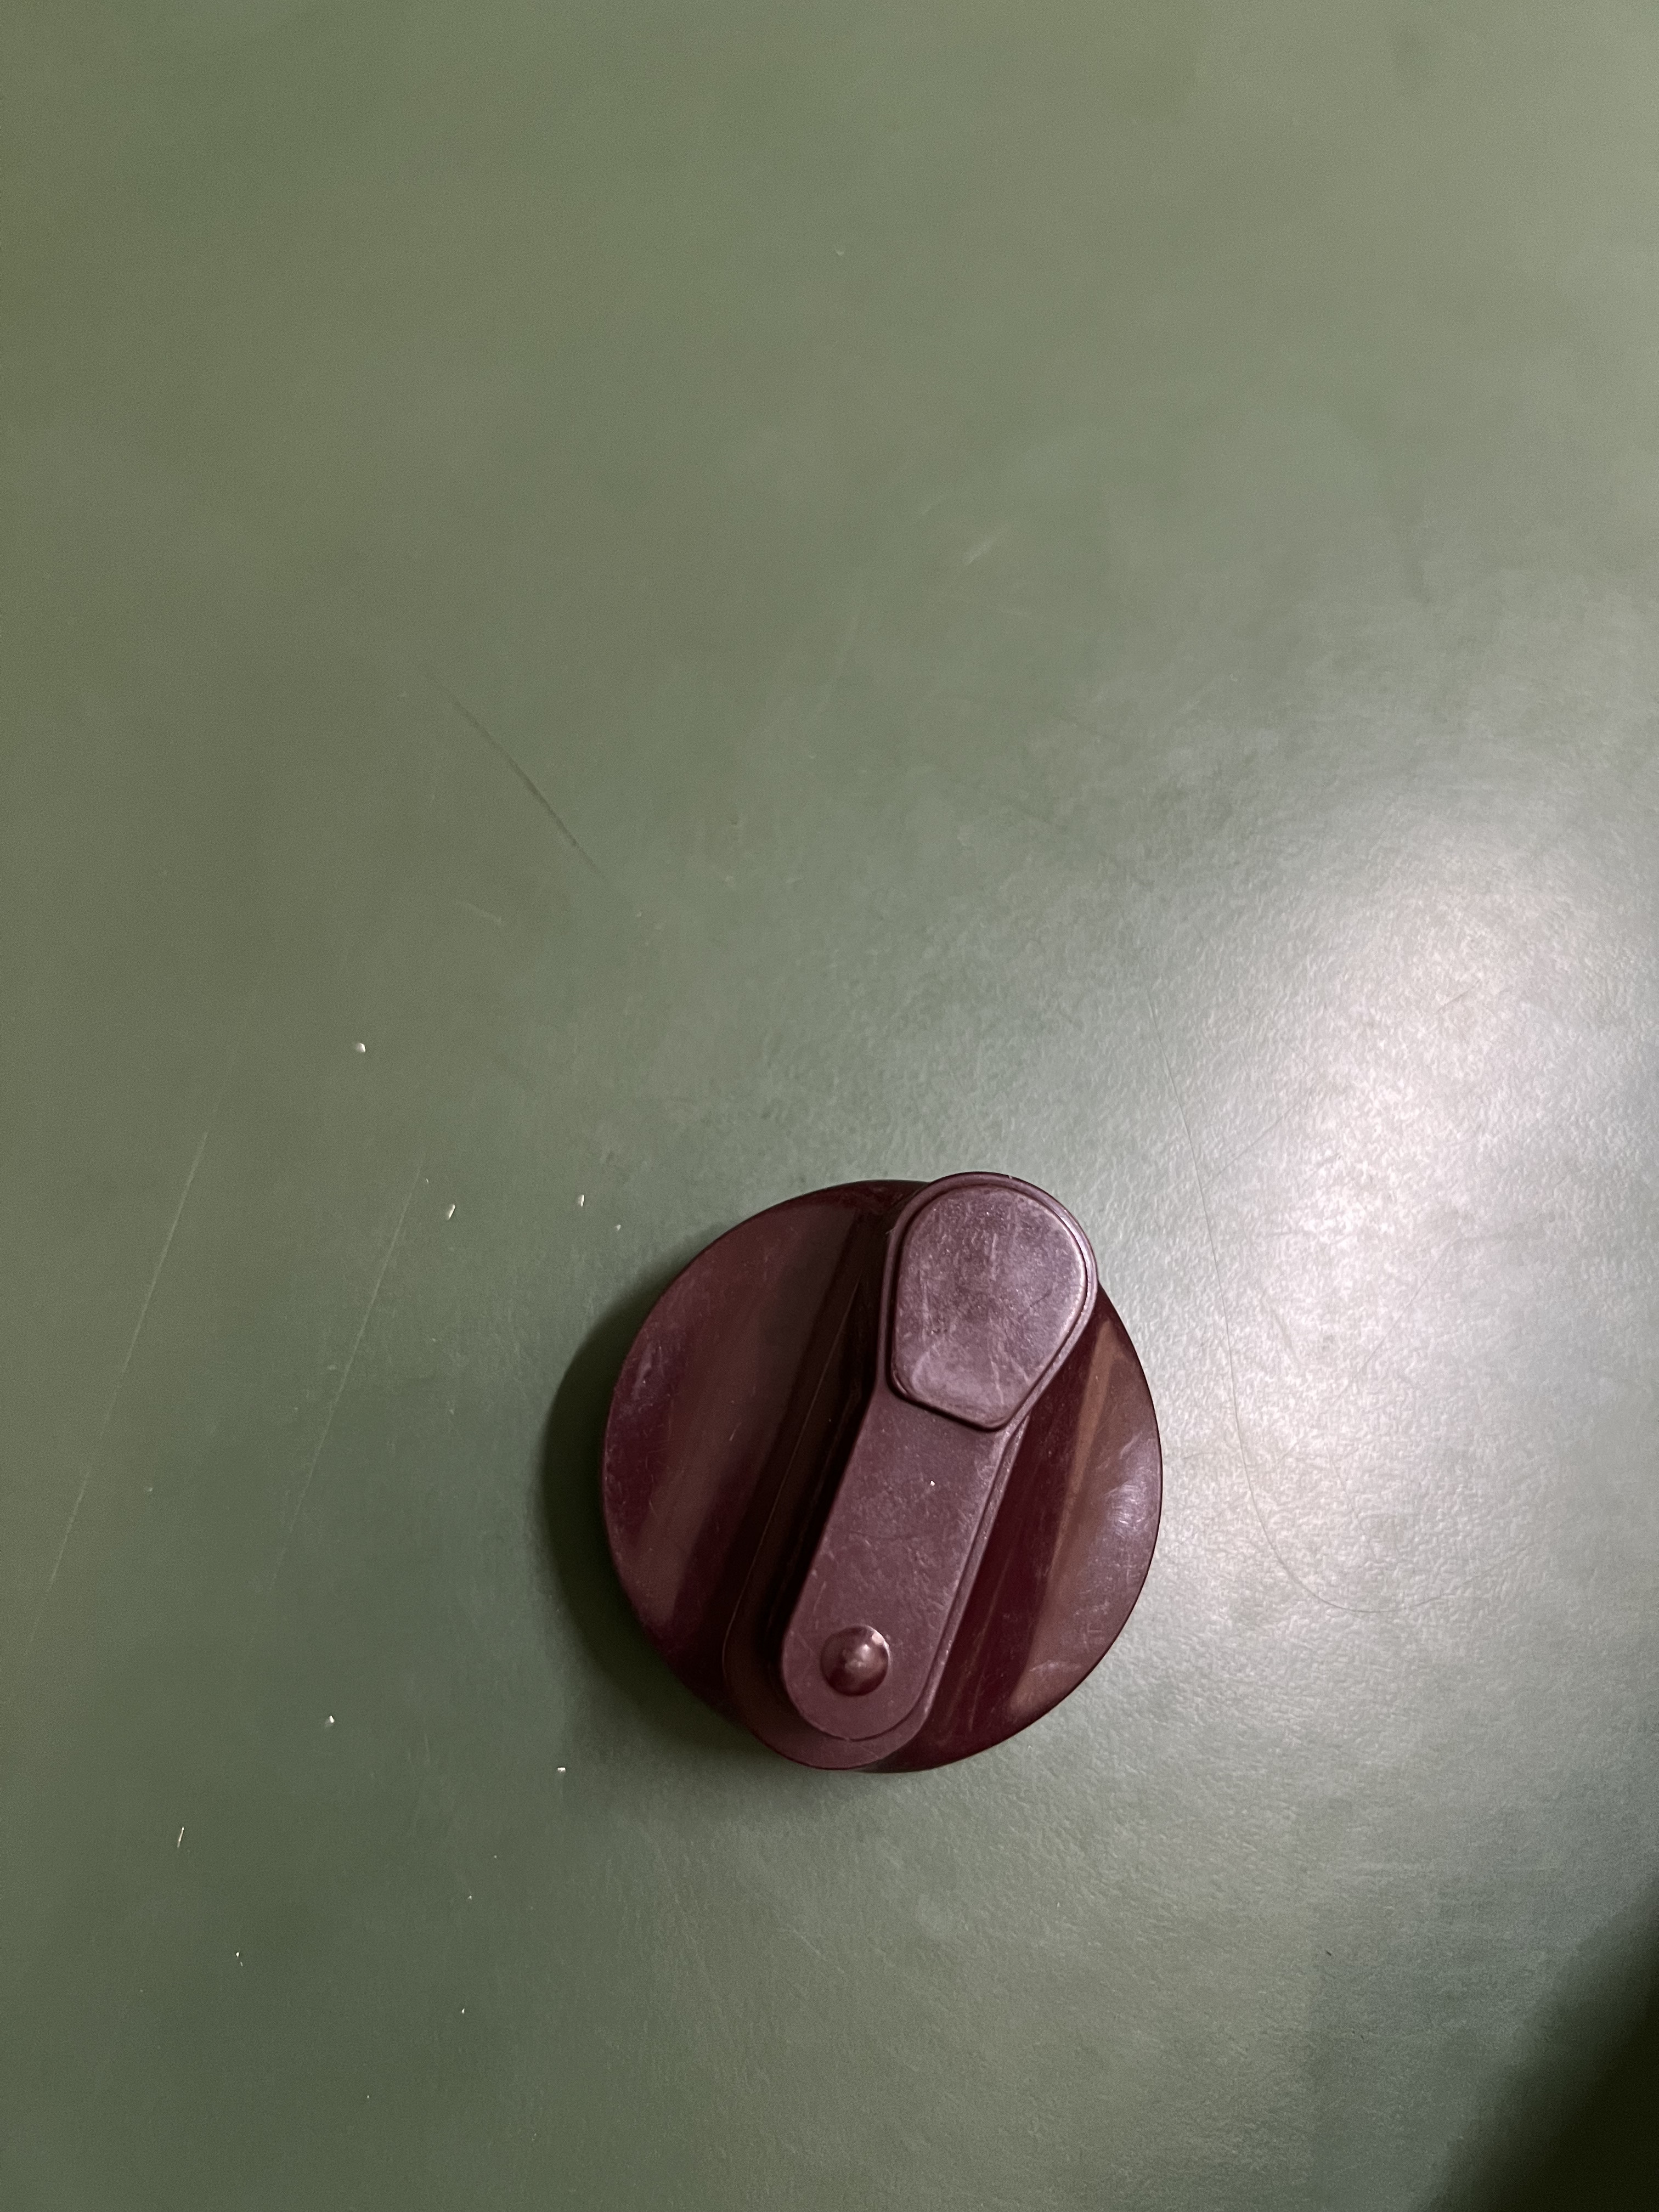regulator: (587, 1177, 1171, 1784)
